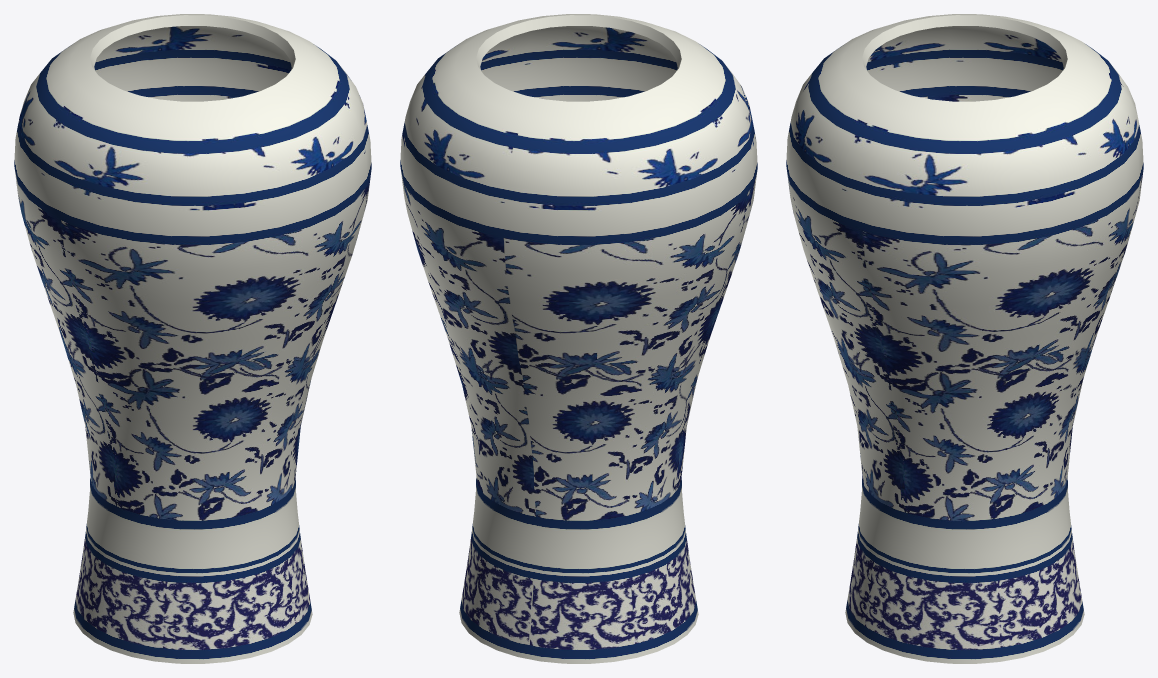
File: vaze.obj
The picture shows the model from 3 angles, left to right: view 1: azimuth 30°, elevation 25°; view 2: azimuth 150°, elevation 25°; view 3: azimuth 270°, elevation 25°; orthographic projection.
Parts seen in each view (by area): view 1: Line405; view 2: Line405; view 3: Line405.
Boxes of the visible parts, x1,y1,x2,y2 form: Line405: (14,14,371,663); Line405: (400,14,757,663); Line405: (786,14,1143,663).
Size of the model in its own units: 91.45 by 157 by 91.78.
Materials: 1 (1 with a texture image).
